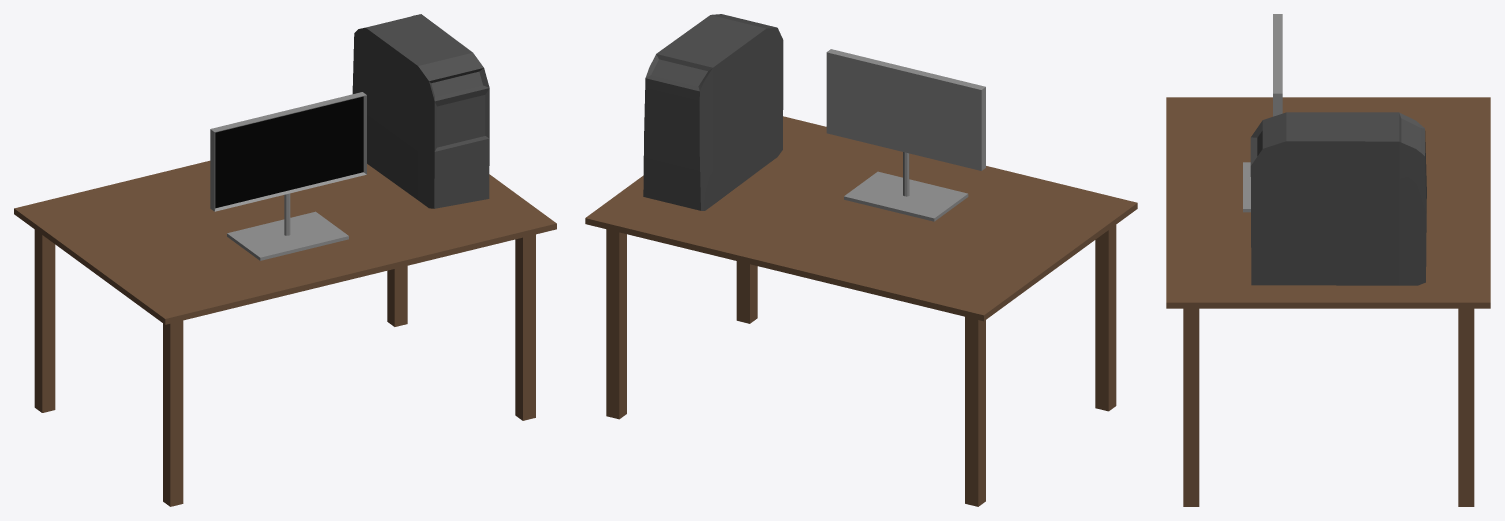
File: Computador.fbx
3 views of the same model, side by side, from view 1: azimuth 30°, elevation 25°; view 2: azimuth 150°, elevation 25°; view 3: azimuth 270°, elevation 25° (orthographic). The views are drawn at different scales.
Parts seen in each view (by area): view 1: Mesa, CPU, Monitor; view 2: Mesa, CPU, Monitor; view 3: Mesa, CPU, Monitor.
Part boxes in pixels (box(x1,y1,x2,y2)): Mesa: box(14, 160, 556, 506); CPU: box(352, 14, 489, 208); Monitor: box(210, 92, 366, 260); Mesa: box(585, 116, 1137, 506); CPU: box(643, 14, 783, 210); Monitor: box(826, 49, 985, 221); Mesa: box(1166, 97, 1490, 506); CPU: box(1250, 112, 1426, 285); Monitor: box(1243, 14, 1282, 212).
Size of the model in its own units: 6.92 by 5.64 by 4.63.
